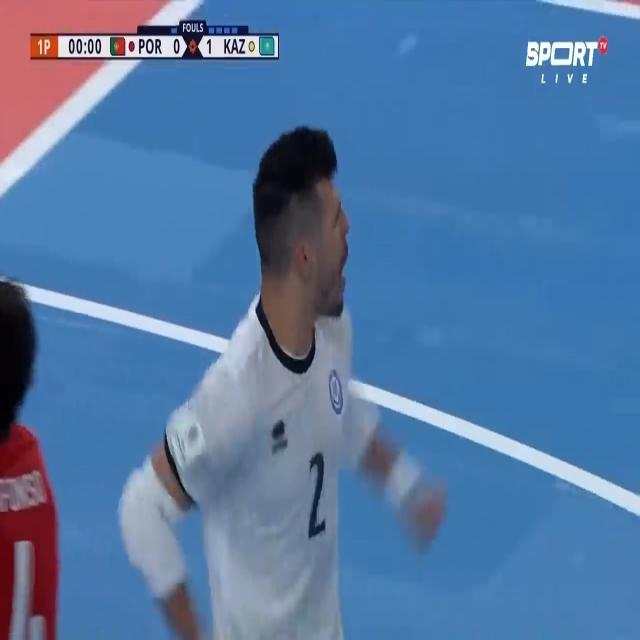Field: (0, 0, 640, 640)
Goal-keeper: (106, 109, 486, 640)
